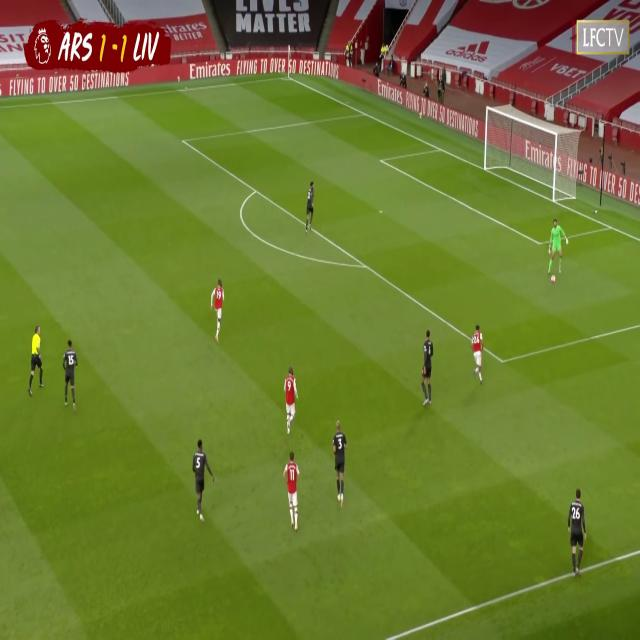Ball: (549, 272, 557, 288)
GoalKeeper: (547, 218, 567, 285)
TEAM 1: (284, 452, 298, 530), (285, 366, 299, 436), (212, 278, 226, 344), (471, 323, 485, 386)
TEAM 2: (567, 491, 589, 581), (192, 437, 213, 523), (420, 330, 436, 410), (332, 423, 347, 502), (62, 341, 79, 410), (304, 182, 316, 236)
